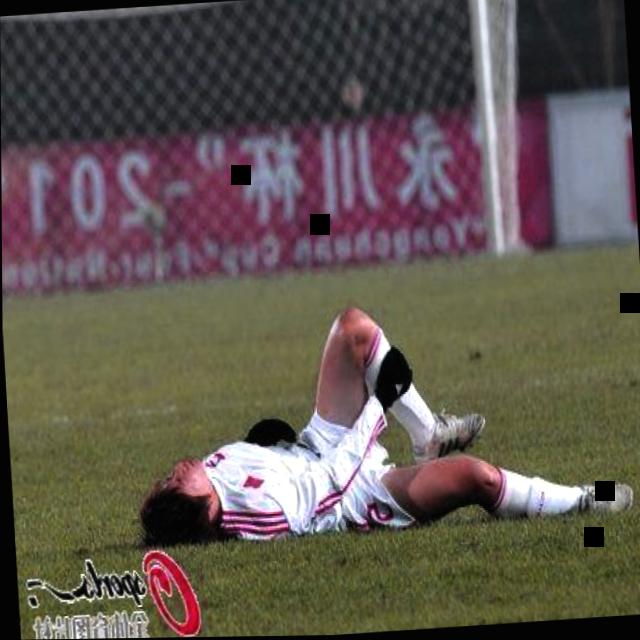Fall-Detected: (109, 260, 640, 568)
